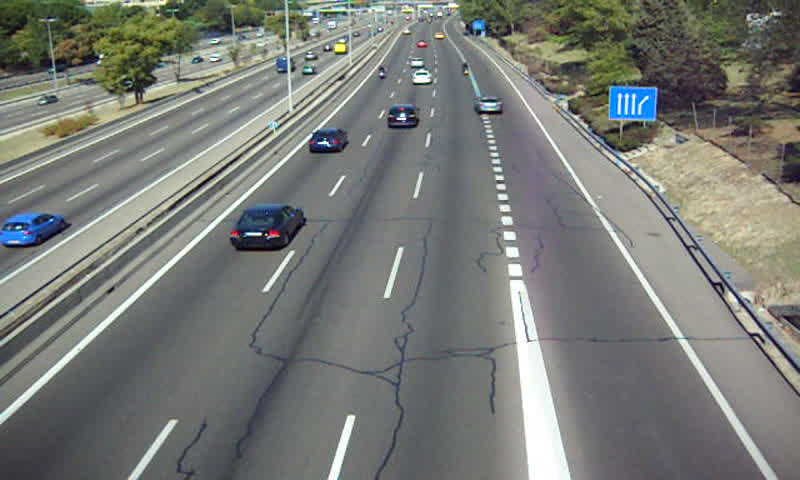car: (230, 205, 306, 248), (308, 128, 348, 153), (386, 103, 420, 130), (473, 97, 504, 116), (411, 69, 431, 86)
motorcycle: (461, 62, 473, 78), (378, 63, 387, 80)
